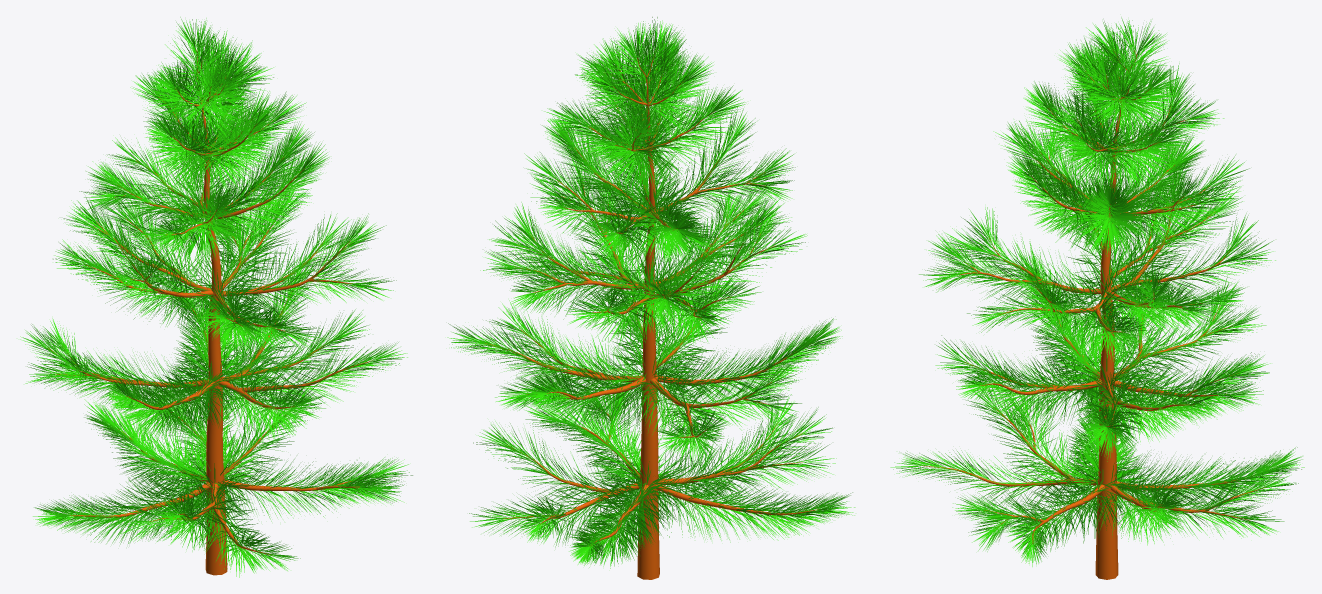
The model's file is pineTreev1.fbx.
The picture shows the model from 3 angles, left to right: view 1: azimuth 30°, elevation 25°; view 2: azimuth 150°, elevation 25°; view 3: azimuth 270°, elevation 25°; orthographic projection. The views are drawn at different scales.
Visible parts, largest first — view 1: leaves, tree; view 2: leaves, tree; view 3: leaves, tree.
Boxes of the visible parts, left/top/right/bottom form: leaves: left=20, top=17, right=412, bottom=577; tree: left=48, top=49, right=371, bottom=575; leaves: left=447, top=17, right=855, bottom=568; tree: left=485, top=54, right=818, bottom=579; leaves: left=890, top=17, right=1304, bottom=566; tree: left=923, top=49, right=1266, bottom=579.
Size of the model in its own units: 352 by 528 by 363.
